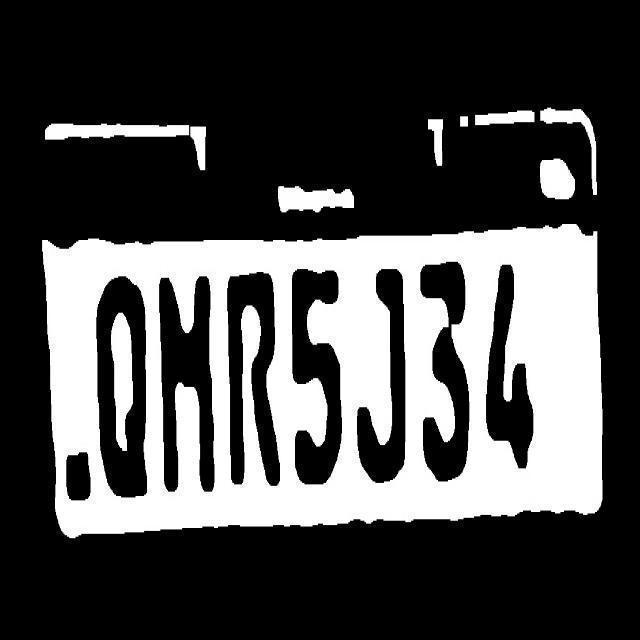3: (419, 256, 472, 496)
4: (483, 254, 538, 476)
5: (290, 267, 344, 494)
j: (358, 261, 408, 495)
m: (153, 272, 218, 496)
q: (92, 262, 147, 510)
r: (225, 273, 281, 488)
